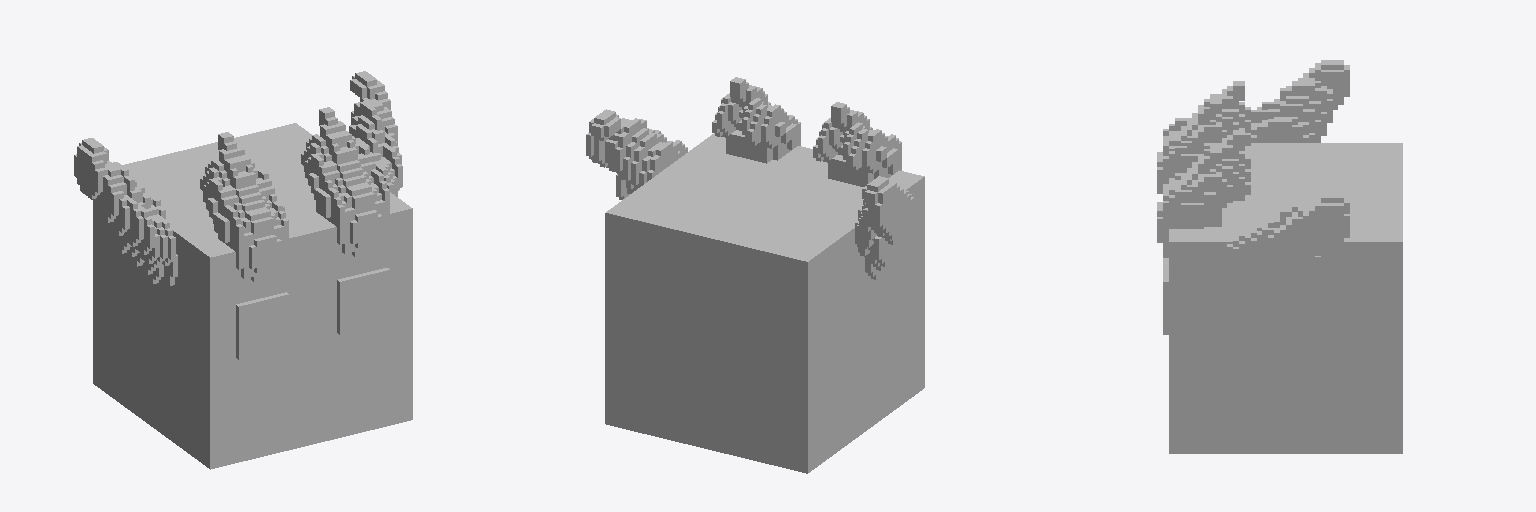
File: slime.obj
3 renders of one model, left to right at view 1: azimuth 30°, elevation 25°; view 2: azimuth 150°, elevation 25°; view 3: azimuth 270°, elevation 25°, orthographic.
Visible parts, largest first — view 1: object 1; view 2: object 1; view 3: object 1.
Boxes of the visible parts, x1=… form: object 1: x1=74, y1=71, x2=412, y2=469; object 1: x1=586, y1=77, x2=924, y2=473; object 1: x1=1157, y1=60, x2=1402, y2=453.
Bounding box in the file's own units: 5.8 × 5.6 × 4.2.